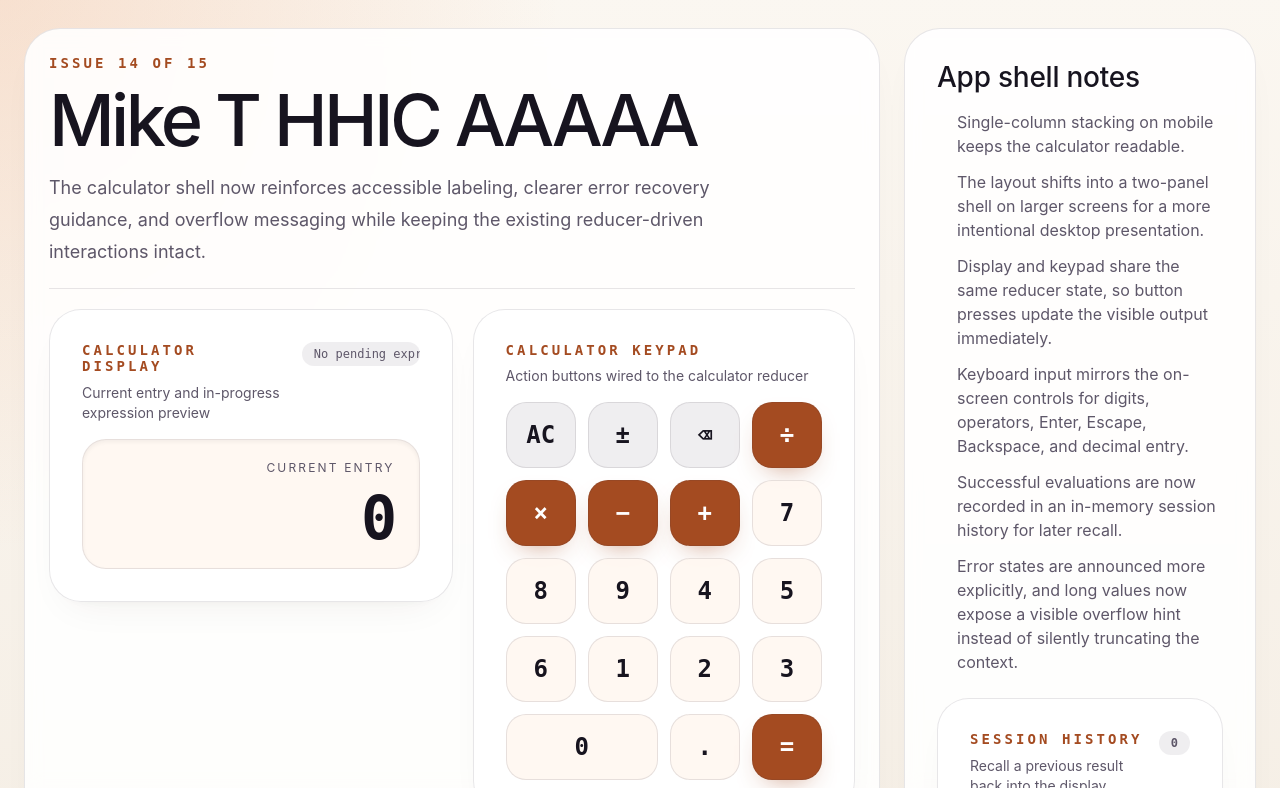
App › recalls a recorded result from the history panel
The width and height of the screenshot is (1280, 788).
Step 1. Click the button named "Digit 8" → coordinates (541, 591), box [506,558,576,624]
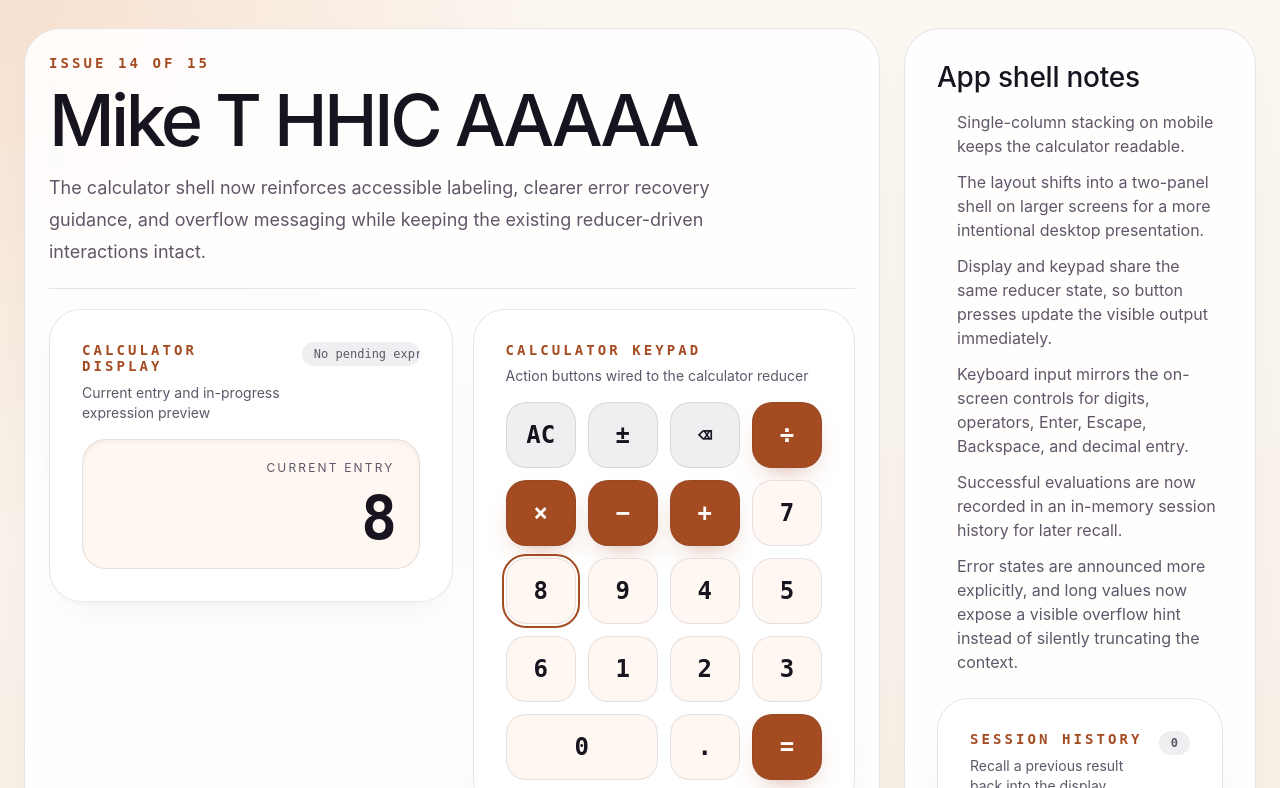
Step 2. Click the button named "divide operator" → coordinates (787, 435), box [752,402,822,468]
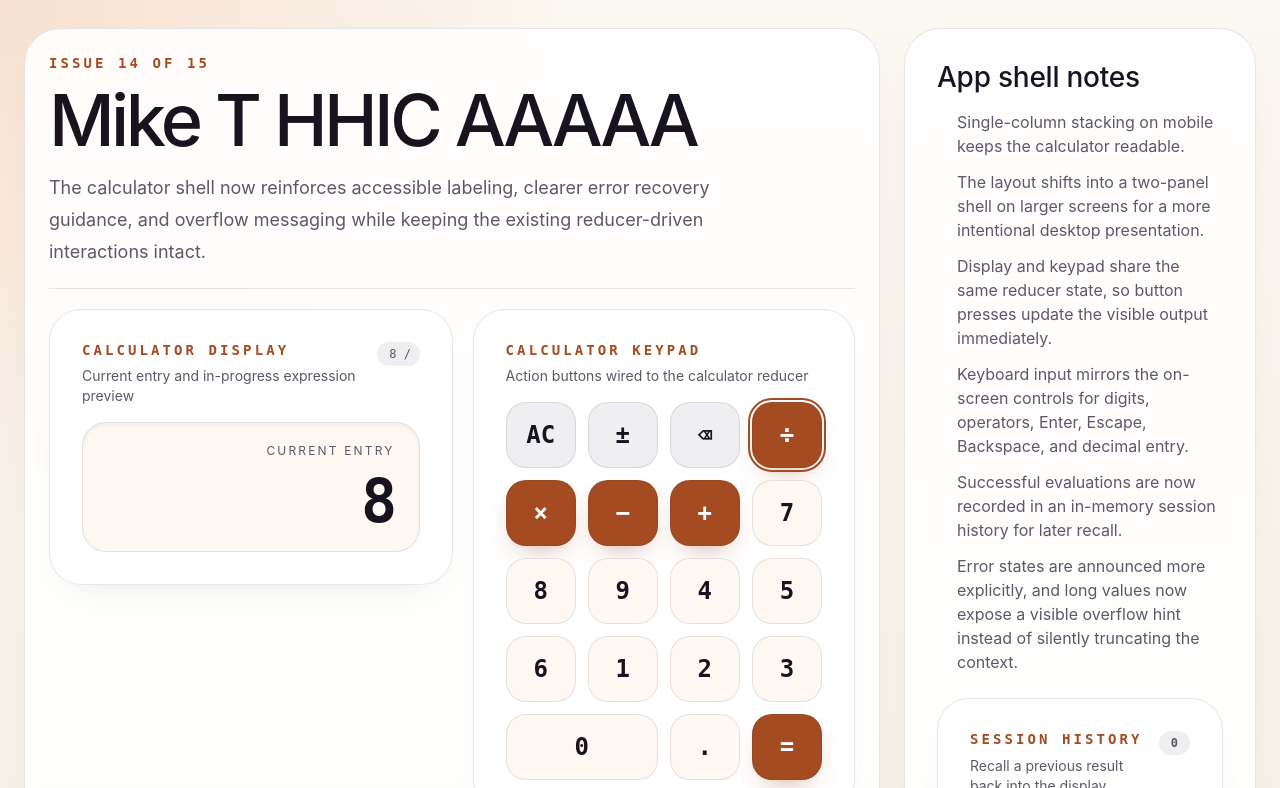
Step 3. Click the button named "Digit 2" → coordinates (705, 669), box [670,636,740,702]
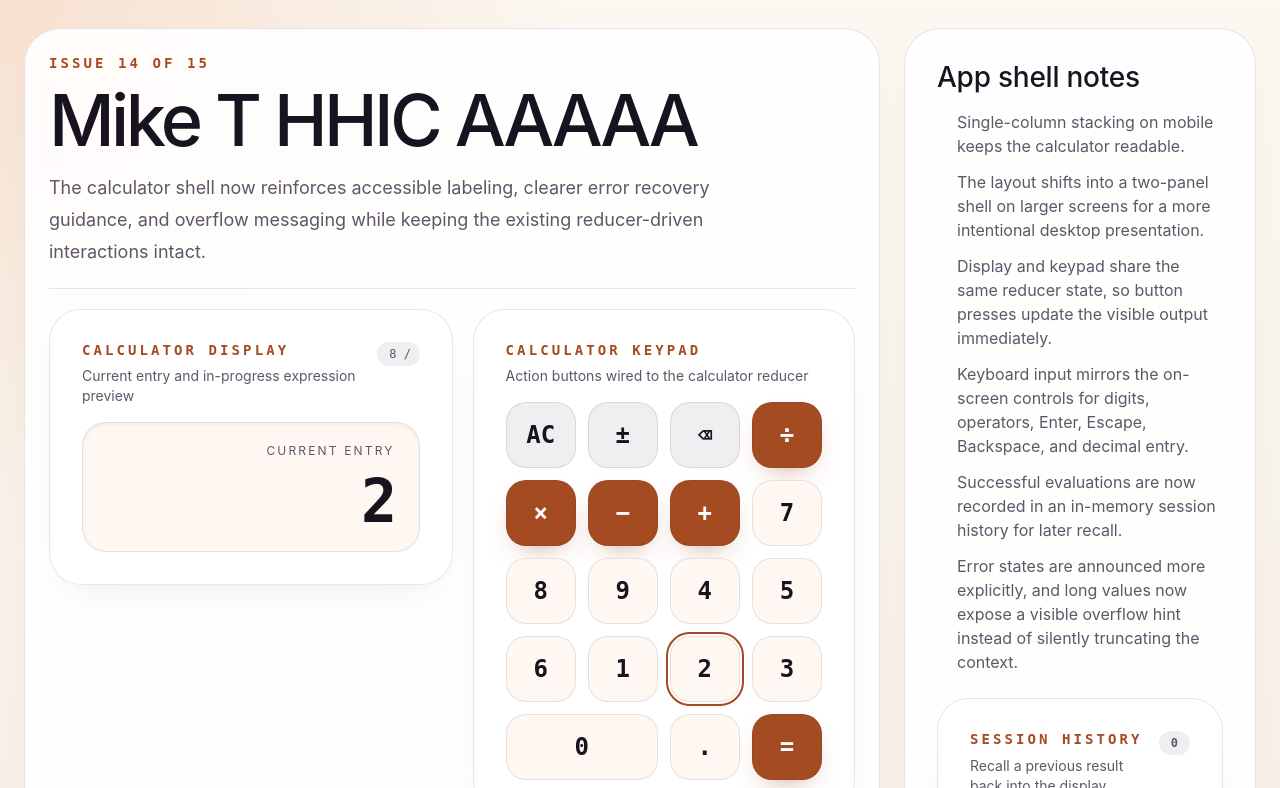
Step 4. Click the button named "Evaluate expression" → coordinates (787, 747), box [752,714,822,780]
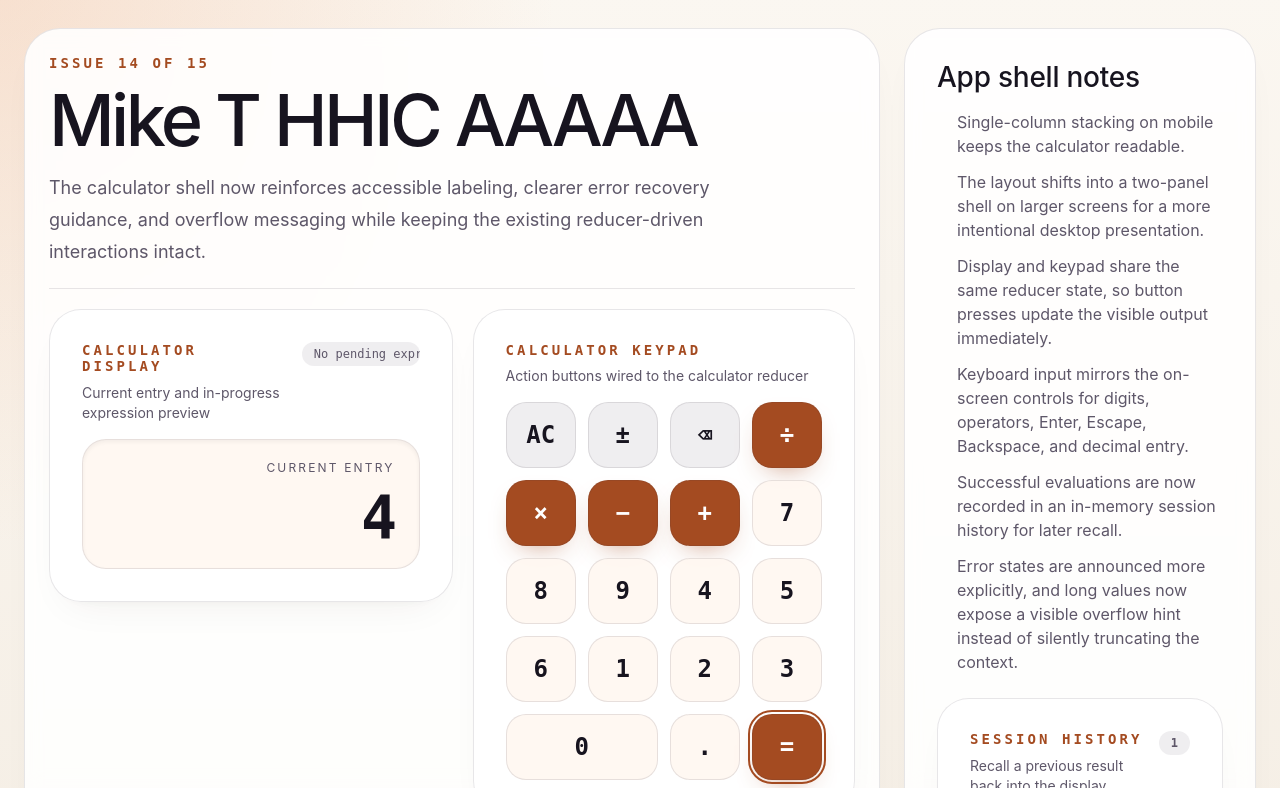
Step 5. Click the button named "Digit 9" → coordinates (623, 591), box [588,558,658,624]
(page scrolled)
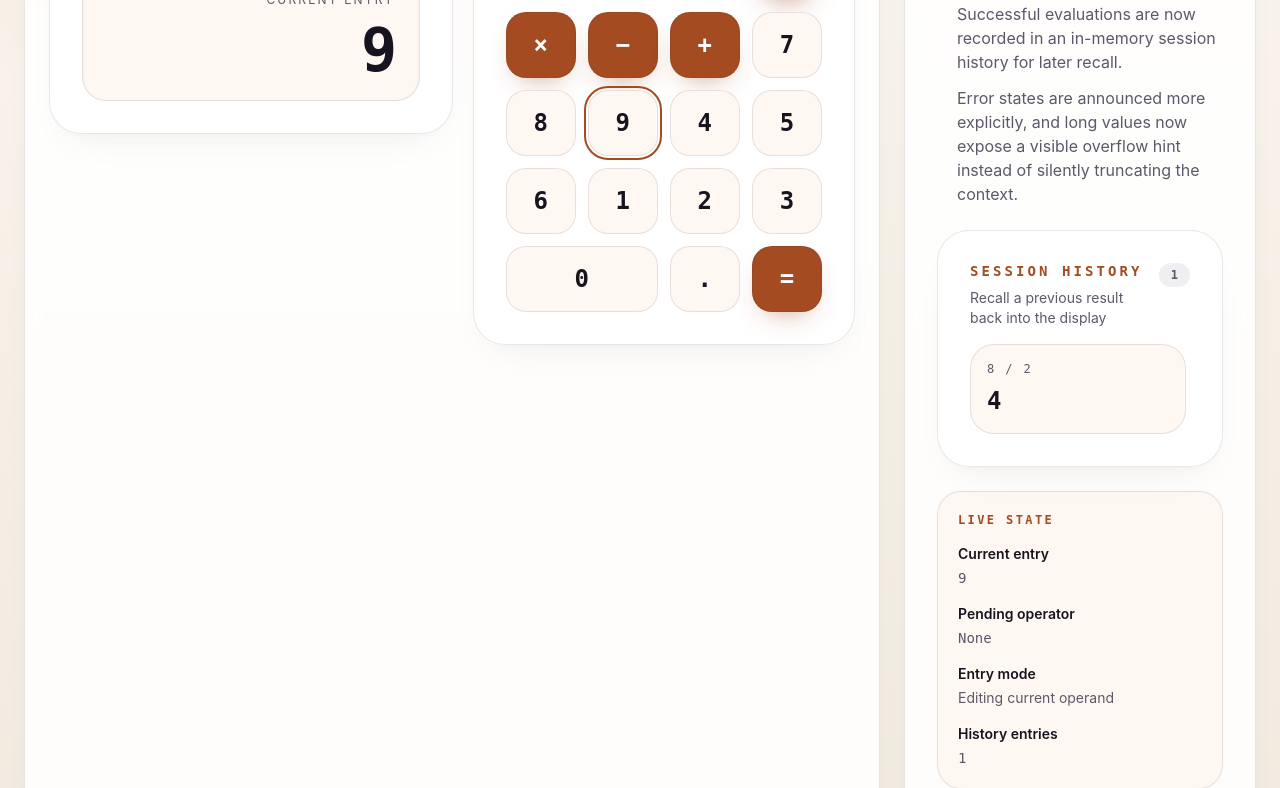
Now the text named "Current value" reads "9", box [361,15,395,85]
Step 6. Click the button named "Recall 8 / 2 equals 4" → coordinates (1078, 388), box [970,344,1186,434]
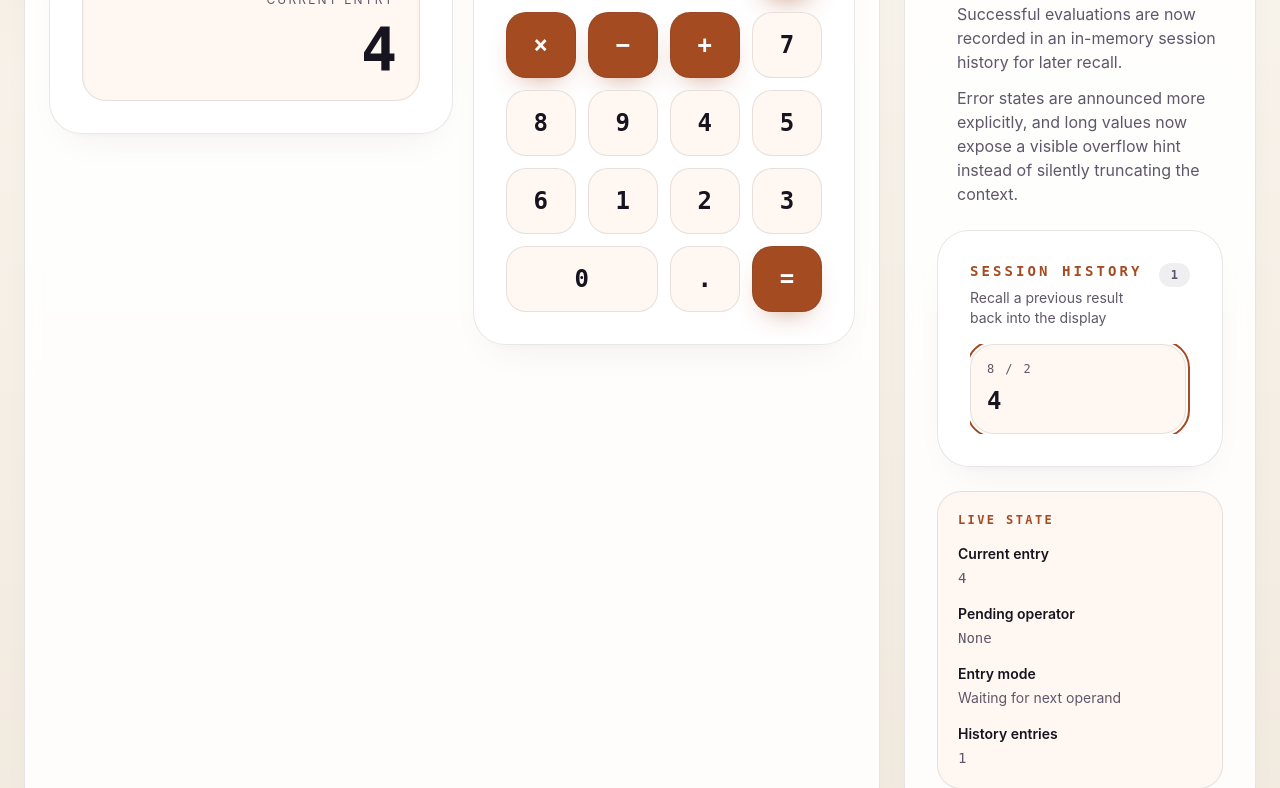
Now the text "1" below "History entries" is shown, box [958,750,966,766]
Now the text named "Current value" reads "4", box [361,15,395,85]
